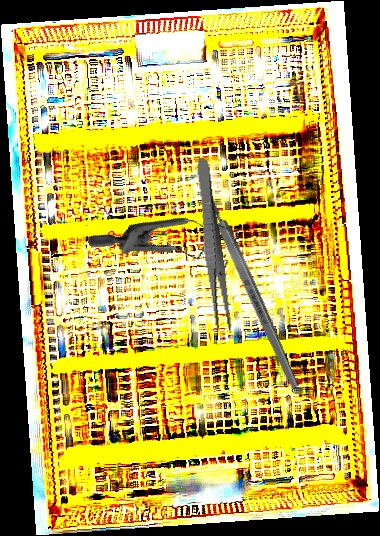Dressing Forceps: (191, 157, 234, 335)
Scalpel Handle: (200, 185, 301, 391)
Speculum: (86, 172, 252, 323)
